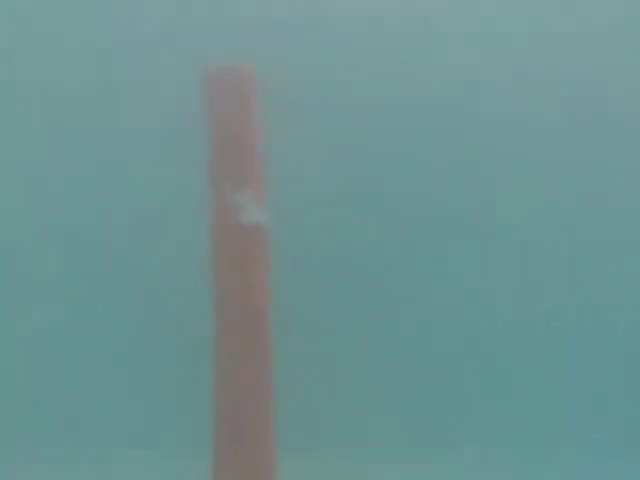flare: (167, 56, 303, 479)
